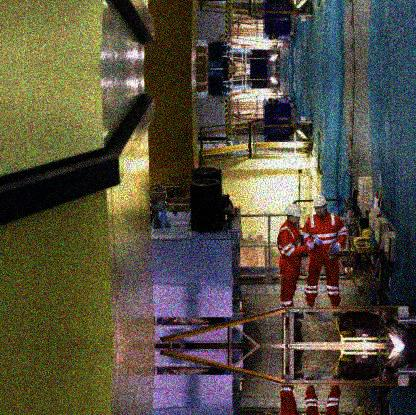helmet: (311, 195, 328, 217), (284, 205, 301, 227)
